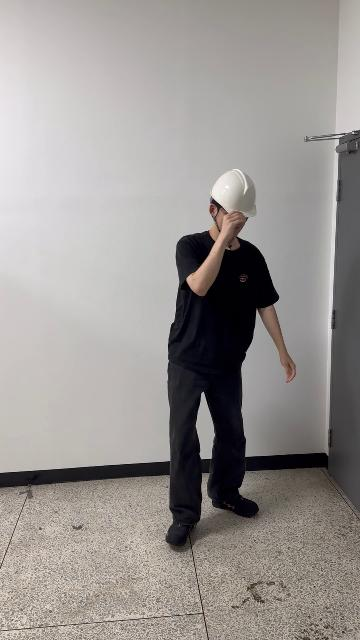helmet_worn: (209, 169, 258, 219)
shoe_worn: (212, 494, 259, 517), (165, 520, 197, 546)
vest_not_worn: (173, 234, 257, 388)
